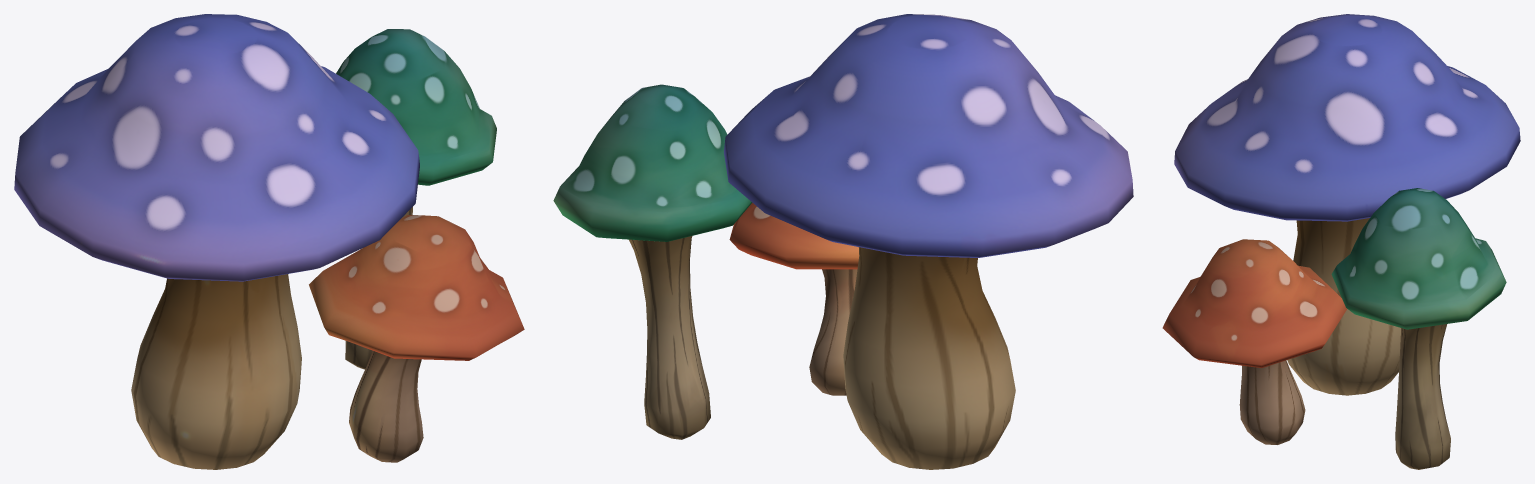
Rendered from bo_ba_nam.glb.
3 views of the same model, side by side, from view 1: azimuth 30°, elevation 25°; view 2: azimuth 150°, elevation 25°; view 3: azimuth 270°, elevation 25° (orthographic). The views are drawn at different scales.
Parts seen in each view (by area): view 1: Demo_Sketchfab_Mushrooms_M_Mushroom_Large_0, Demo_Sketchfab_Mushrooms_M_Mushroom_Small_0, Demo_Sketchfab_Mushrooms_M_Mushroom_Thin_0; view 2: Demo_Sketchfab_Mushrooms_M_Mushroom_Large_0, Demo_Sketchfab_Mushrooms_M_Mushroom_Thin_0, Demo_Sketchfab_Mushrooms_M_Mushroom_Small_0; view 3: Demo_Sketchfab_Mushrooms_M_Mushroom_Large_0, Demo_Sketchfab_Mushrooms_M_Mushroom_Thin_0, Demo_Sketchfab_Mushrooms_M_Mushroom_Small_0.
Boxes of the visible parts, x1,y1,x2,y2 form: Demo_Sketchfab_Mushrooms_M_Mushroom_Large_0: [14, 14, 419, 469]; Demo_Sketchfab_Mushrooms_M_Mushroom_Small_0: [309, 215, 524, 462]; Demo_Sketchfab_Mushrooms_M_Mushroom_Thin_0: [336, 29, 496, 369]; Demo_Sketchfab_Mushrooms_M_Mushroom_Large_0: [724, 14, 1133, 469]; Demo_Sketchfab_Mushrooms_M_Mushroom_Thin_0: [553, 84, 752, 439]; Demo_Sketchfab_Mushrooms_M_Mushroom_Small_0: [729, 203, 859, 395]; Demo_Sketchfab_Mushrooms_M_Mushroom_Large_0: [1174, 14, 1520, 395]; Demo_Sketchfab_Mushrooms_M_Mushroom_Thin_0: [1331, 188, 1506, 469]; Demo_Sketchfab_Mushrooms_M_Mushroom_Small_0: [1162, 239, 1346, 444].
Size of the model in its own units: 0.2979 by 0.2453 by 0.2226.
3 materials, 3 textured.
